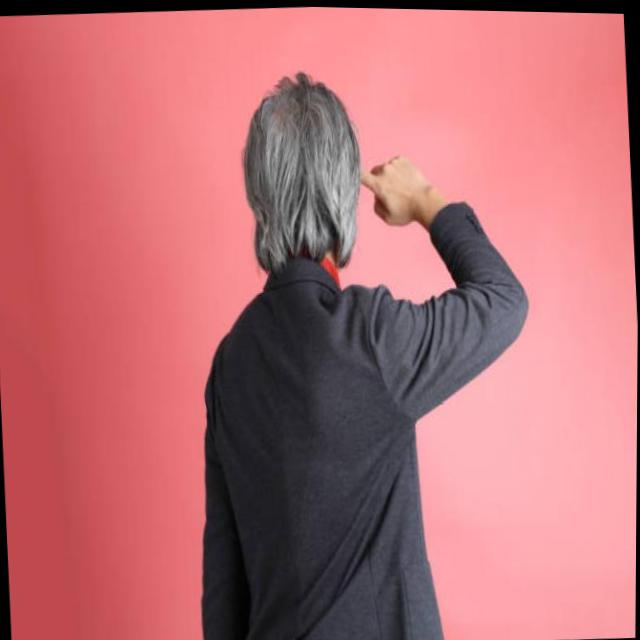no helmet: (231, 57, 373, 288)
